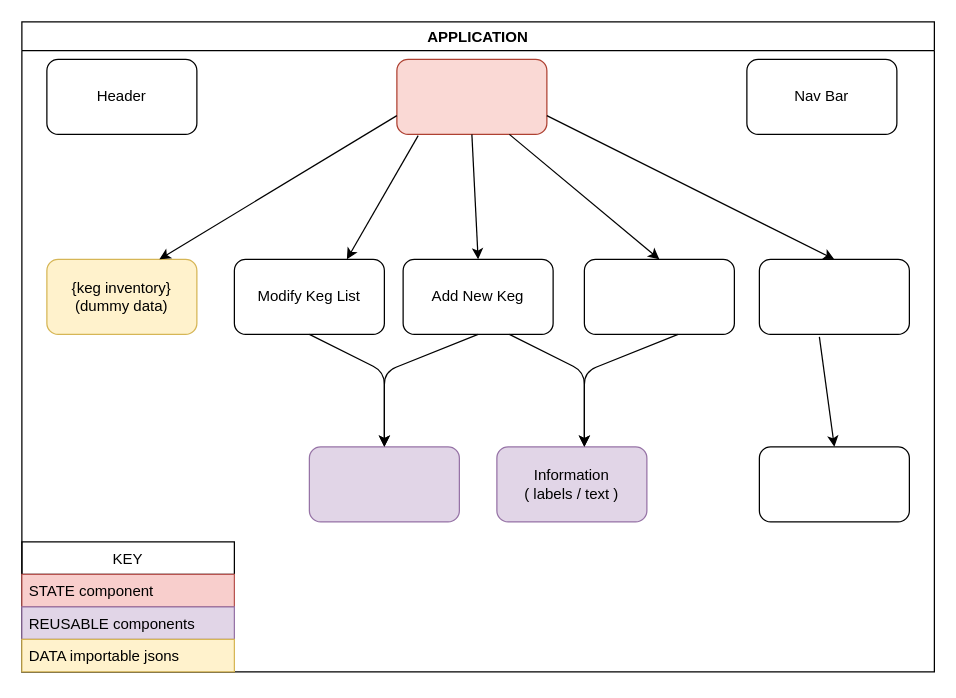
This 956x698 diagram has some shape labels left out. Here are the shapes that lost their labels. From the top down, the centre of each, then its label:
At pixel 471 96: "Keg Controller".
At pixel 658 296: "Keg Detail".
At pixel 833 296: "Keg List".
At pixel 383 484: "Form ( create / edit )".
At pixel 833 484: "Keg".
